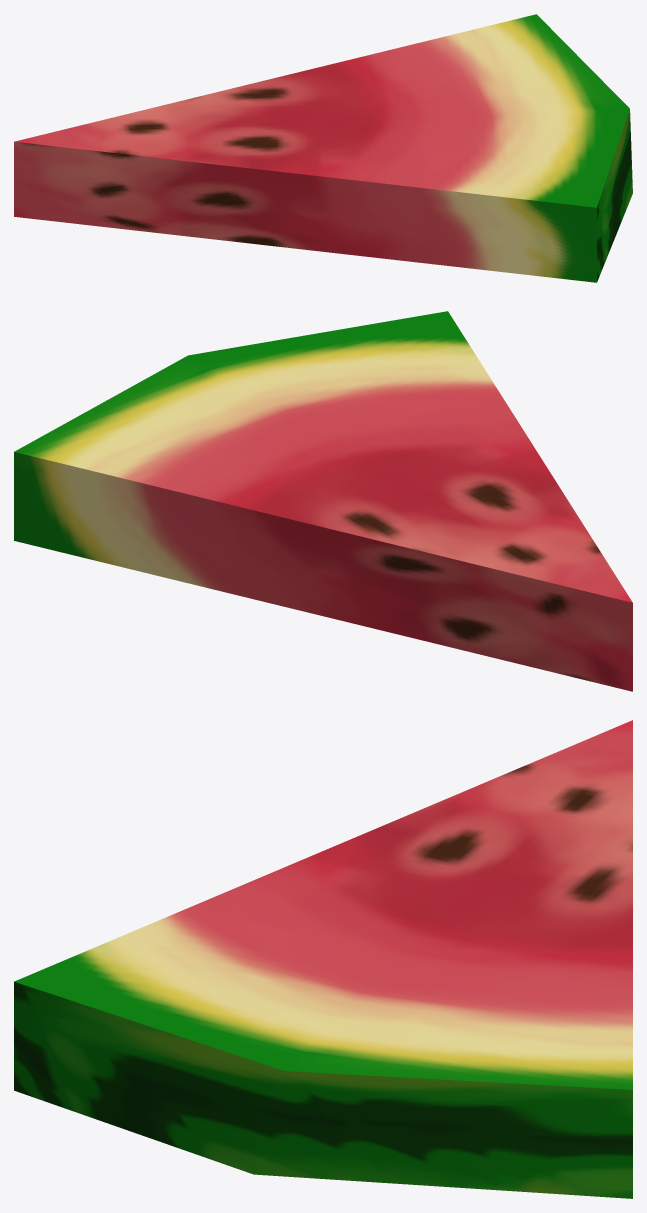
The model's file is SM_PROP_food_watermelon_04.FBX.
3 views of the same model, one above another, from view 1: azimuth 30°, elevation 25°; view 2: azimuth 150°, elevation 25°; view 3: azimuth 270°, elevation 25° (orthographic). The views are drawn at different scales.
Parts seen in each view (by area): view 1: SM_PROP_food_watermelon_04; view 2: SM_PROP_food_watermelon_04; view 3: SM_PROP_food_watermelon_04.
Boxes of the visible parts, left/top/right/bottom form: SM_PROP_food_watermelon_04: left=14, top=14, right=632, bottom=282; SM_PROP_food_watermelon_04: left=14, top=311, right=632, bottom=691; SM_PROP_food_watermelon_04: left=14, top=720, right=632, bottom=1198.
Bounding box in the file's own units: 25.87 × 18.29 × 3.55.
